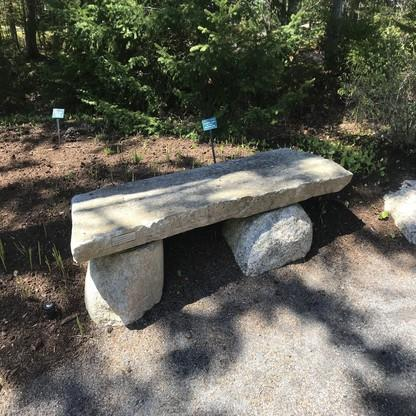obstacle: (66, 126, 356, 331)
